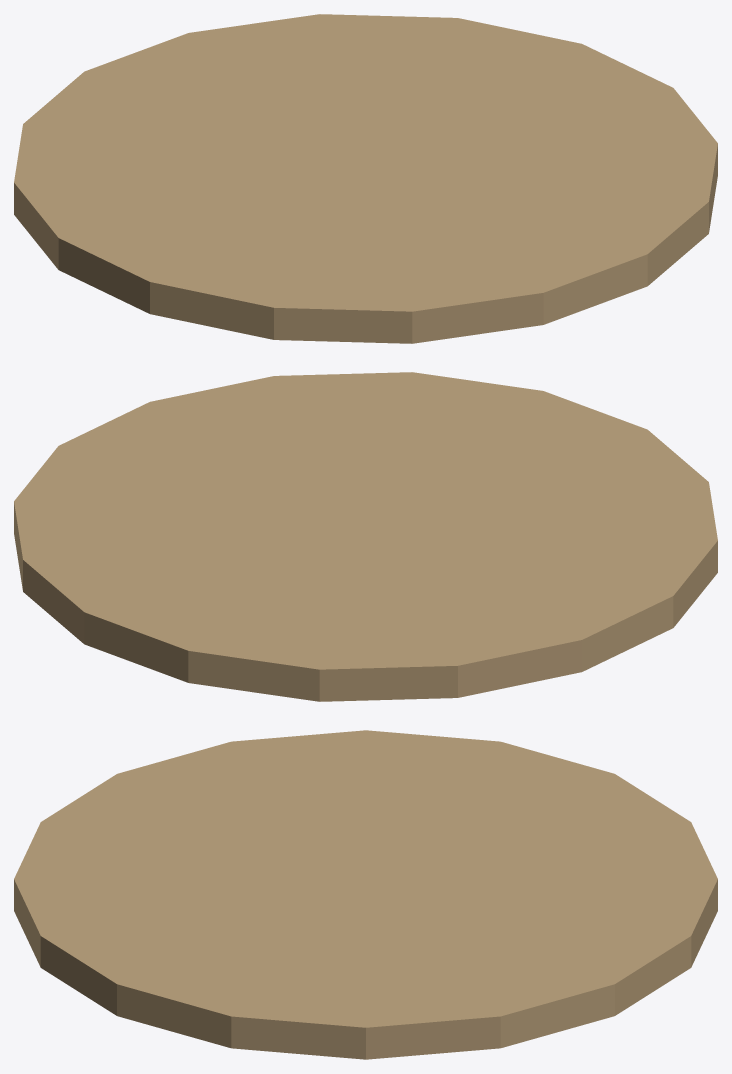
File: disc.gltf
3 renders of one model, top to bottom at view 1: azimuth 30°, elevation 25°; view 2: azimuth 150°, elevation 25°; view 3: azimuth 270°, elevation 25°, orthographic.
Parts seen in each view (by area): view 1: Disc; view 2: Disc; view 3: Disc.
Boxes of the visible parts, box(x1,y1,x2,y2) form: Disc: box(14, 14, 717, 343); Disc: box(14, 372, 717, 701); Disc: box(14, 730, 717, 1059).
Bounding box in the file's own units: 2 × 0.1 × 2.
